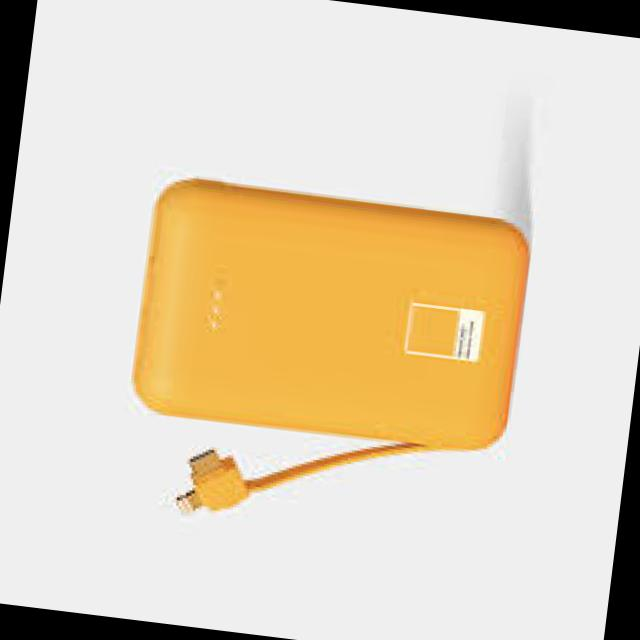power_bank: (132, 172, 540, 455)
